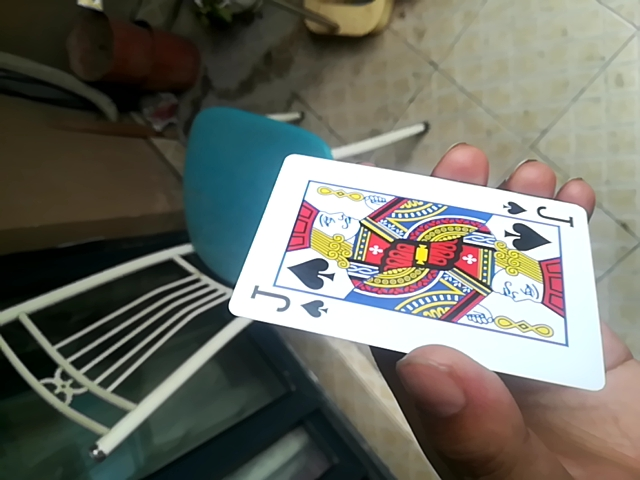ht j: (217, 158, 603, 386)
